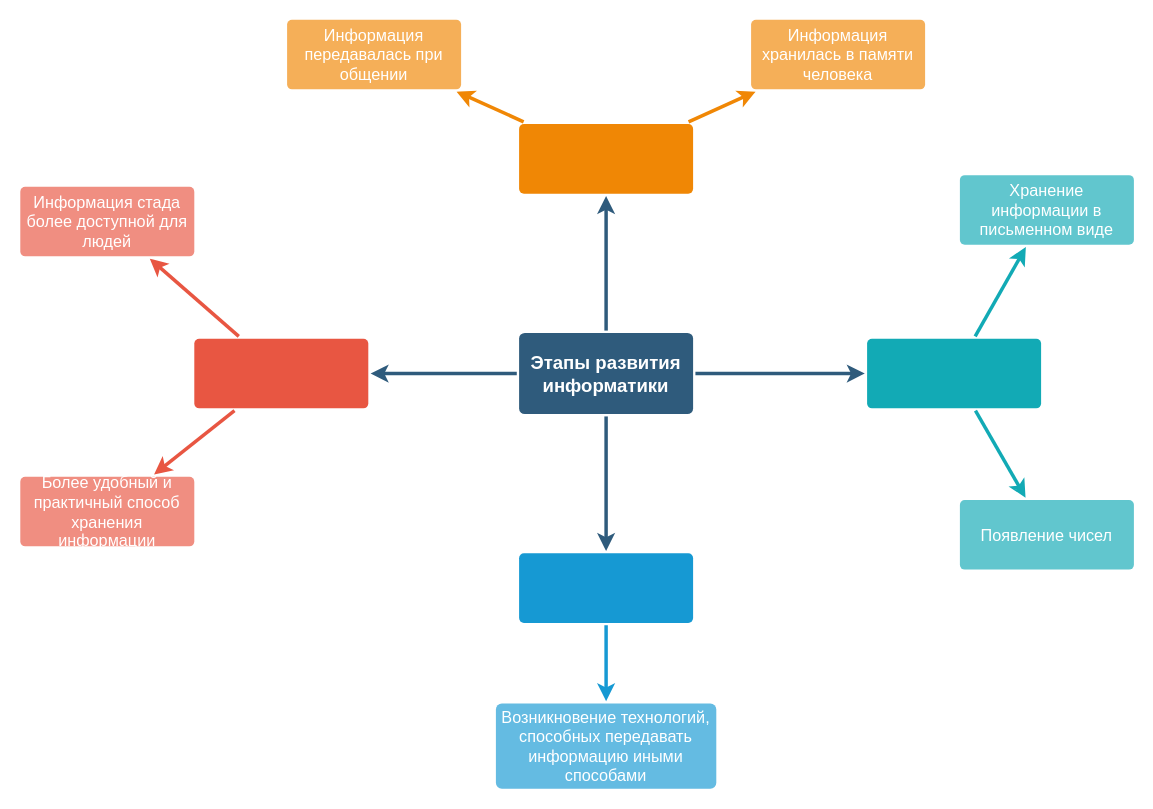
Image size: 1153x809. Some labels were removed from this diagram. The centre of each missing label's shape, as x and y in pixels:
"Возникновение книгопечатания" belongs at (281,373).
"Возникновение письменности" belongs at (954,373).
"Научно-техническая революция" belongs at (606,587).
"Освоение человеком устной речи" belongs at (606,158).
